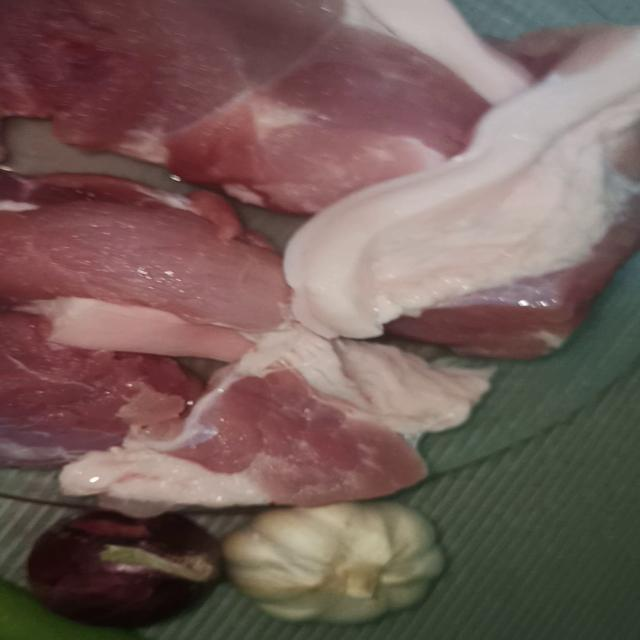garlic: (225, 503, 513, 637)
onion: (18, 501, 252, 640)
pork: (263, 41, 640, 361), (0, 0, 527, 178), (98, 338, 483, 517), (0, 172, 305, 345), (0, 290, 172, 492)
